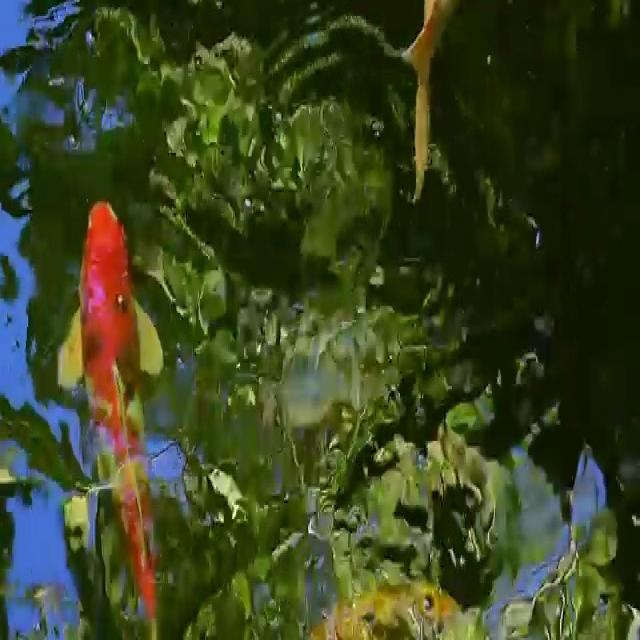fish: (51, 186, 206, 640)
